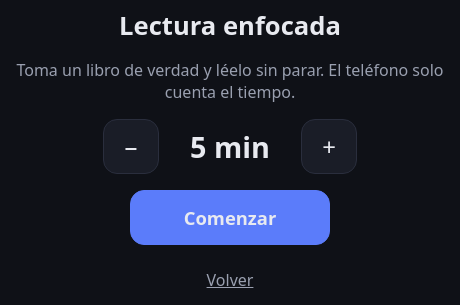
Test case: Lectura › muestra el objetivo propuesto según el nivel y permite ajustarlo
The width and height of the screenshot is (460, 305).
Expected: the text "5 min" is shown, [190,126,270,166]
Click the button named "Más un minuto": (329, 146) [301,118,357,174]
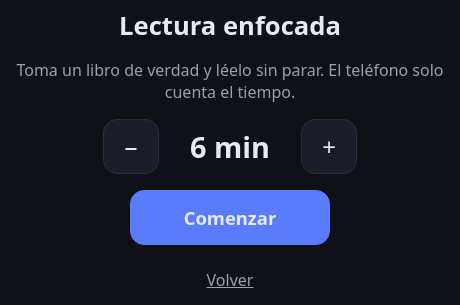
Expected: the text "6 min" is shown, [190,126,270,166]
Click the button named "Menos un minuto": (131, 146) [103,118,159,174]
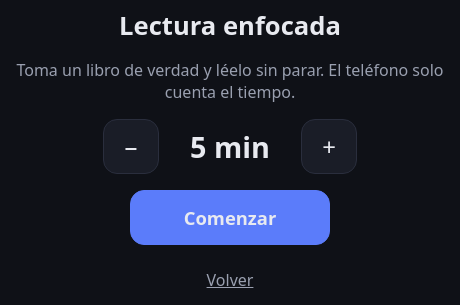
Click the button named "Menos un minuto": (131, 146) [103,118,159,174]
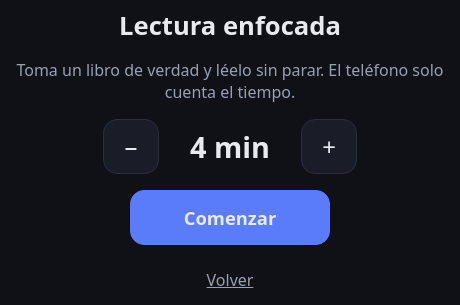
Expected: the text "4 min" is shown, [190,126,270,166]
